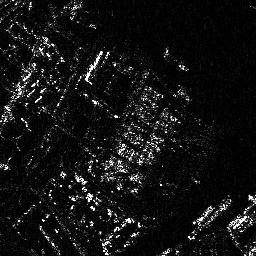ship: (164, 48, 190, 72), (193, 206, 216, 224)
